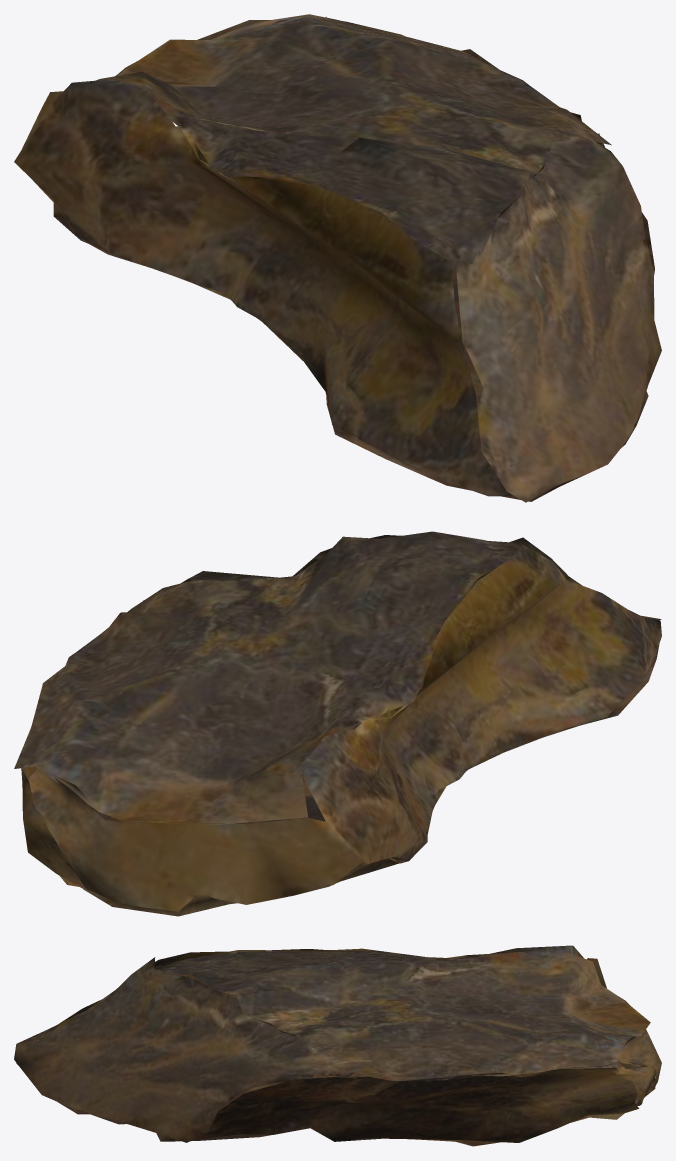
Rendered from rock_09.glb.
3 views of the same model, one above another, from view 1: azimuth 30°, elevation 25°; view 2: azimuth 150°, elevation 25°; view 3: azimuth 270°, elevation 25° (orthographic). The views are drawn at different scales.
Parts seen in each view (by area): view 1: v0; view 2: v0; view 3: v0.
Part boxes in pixels (bbox=[...]): v0: bbox=[14, 14, 661, 502]; v0: bbox=[14, 531, 661, 916]; v0: bbox=[14, 945, 661, 1146].
Size of the model in its own units: 0.5142 by 0.2244 by 1.
Materials: 1 (1 with a texture image).
